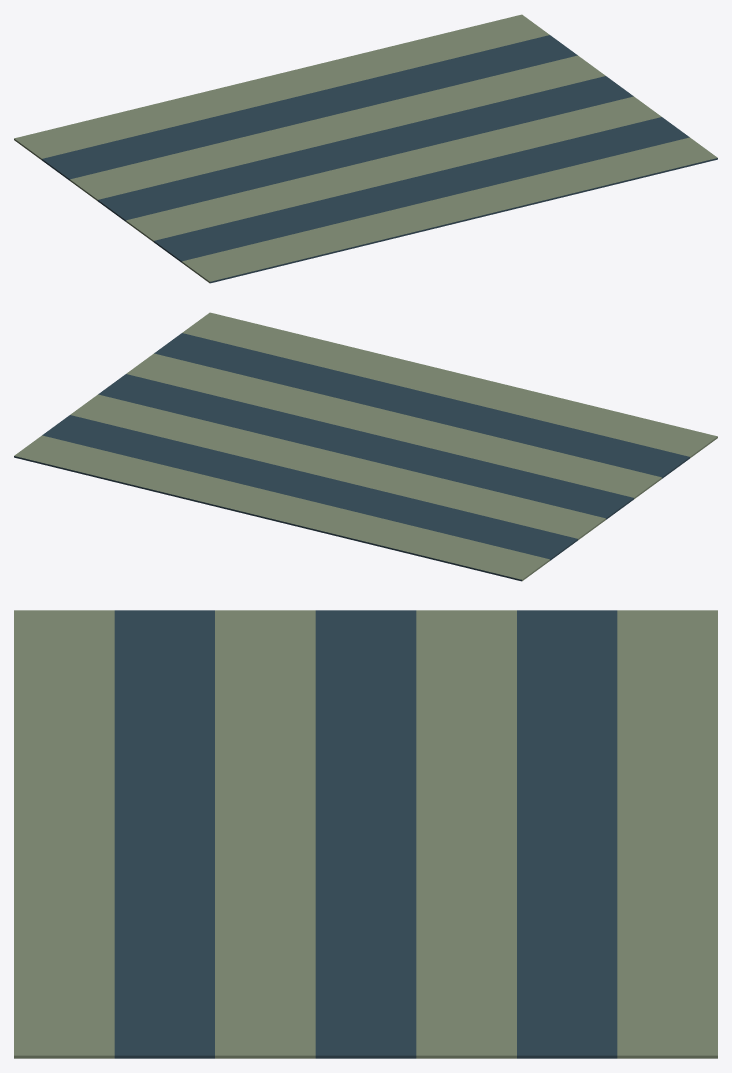
The model's file is koc5.fbx.
3 renders of one model, top to bottom at view 1: azimuth 30°, elevation 25°; view 2: azimuth 150°, elevation 25°; view 3: azimuth 270°, elevation 25°, orthographic. The views are drawn at different scales.
Parts seen in each view (by area): view 1: koc5; view 2: koc5; view 3: koc5.
Part boxes in pixels (x1,y1,x2,y2): koc5: [14, 14, 717, 283]; koc5: [14, 312, 717, 581]; koc5: [14, 610, 717, 1058].
Bounding box in the file's own units: 205 × 307 × 0.9519.
